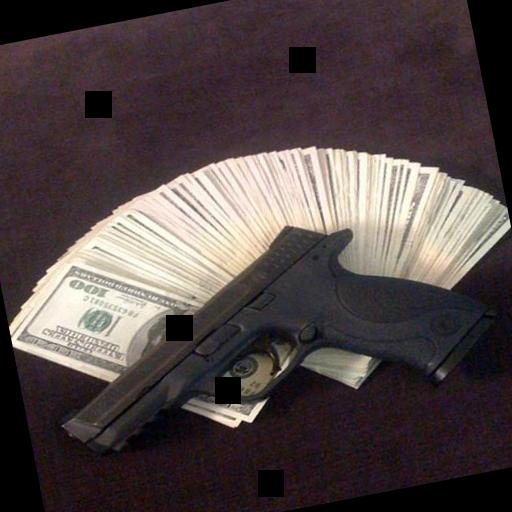Handgun: (32, 188, 501, 470)
